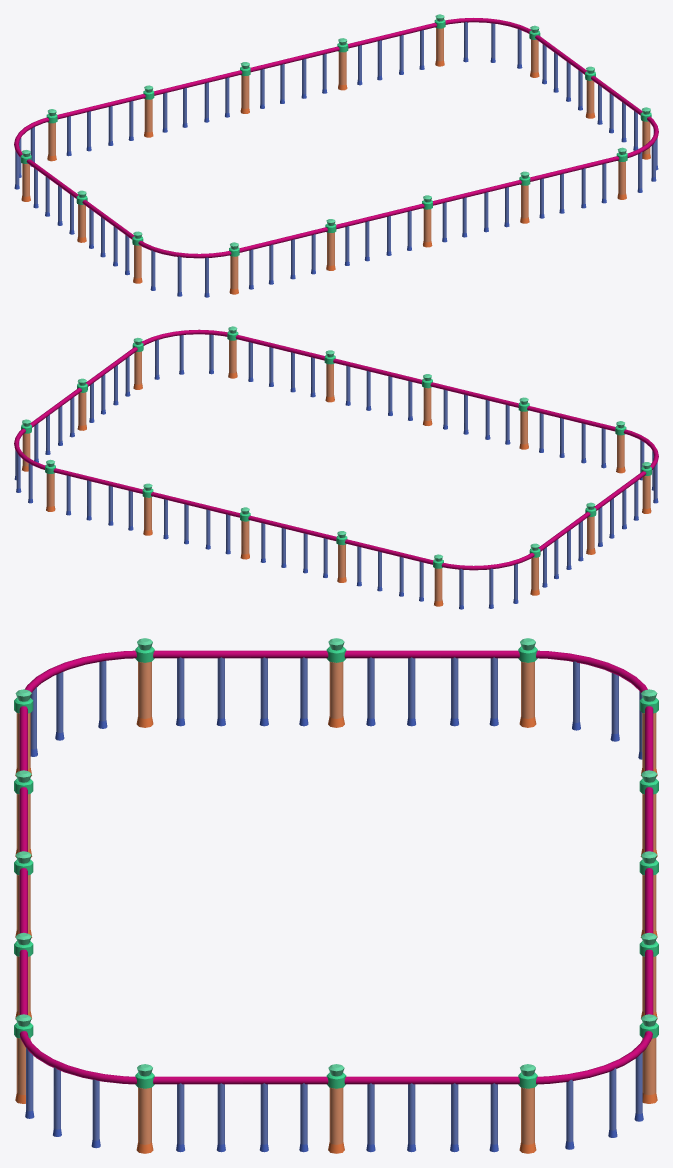
Rendered from fence_castle.fbx.
3 views of the same model, one above another, from view 1: azimuth 30°, elevation 25°; view 2: azimuth 150°, elevation 25°; view 3: azimuth 270°, elevation 25° (orthographic). The views are drawn at different scales.
Visible parts, largest first — view 1: fence_castle; view 2: fence_castle; view 3: fence_castle.
Part boxes in pixels (x1,y1,x2,y2): fence_castle: (14,14,658,297); fence_castle: (14,326,658,609); fence_castle: (14,638,658,1153).
Bounding box in the file's own units: 821 × 74.33 × 515.
